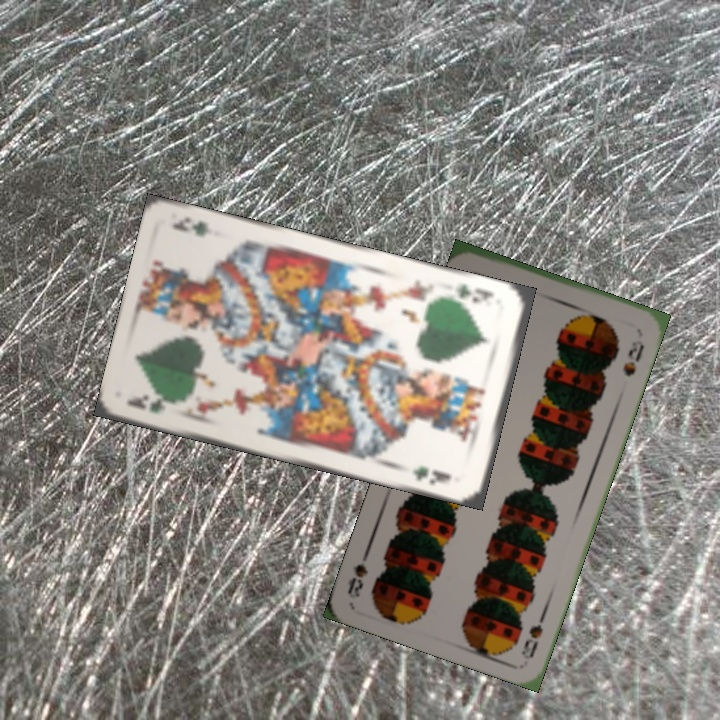GK: (123, 391, 179, 416), (451, 280, 497, 306)
S8: (517, 604, 551, 662)
